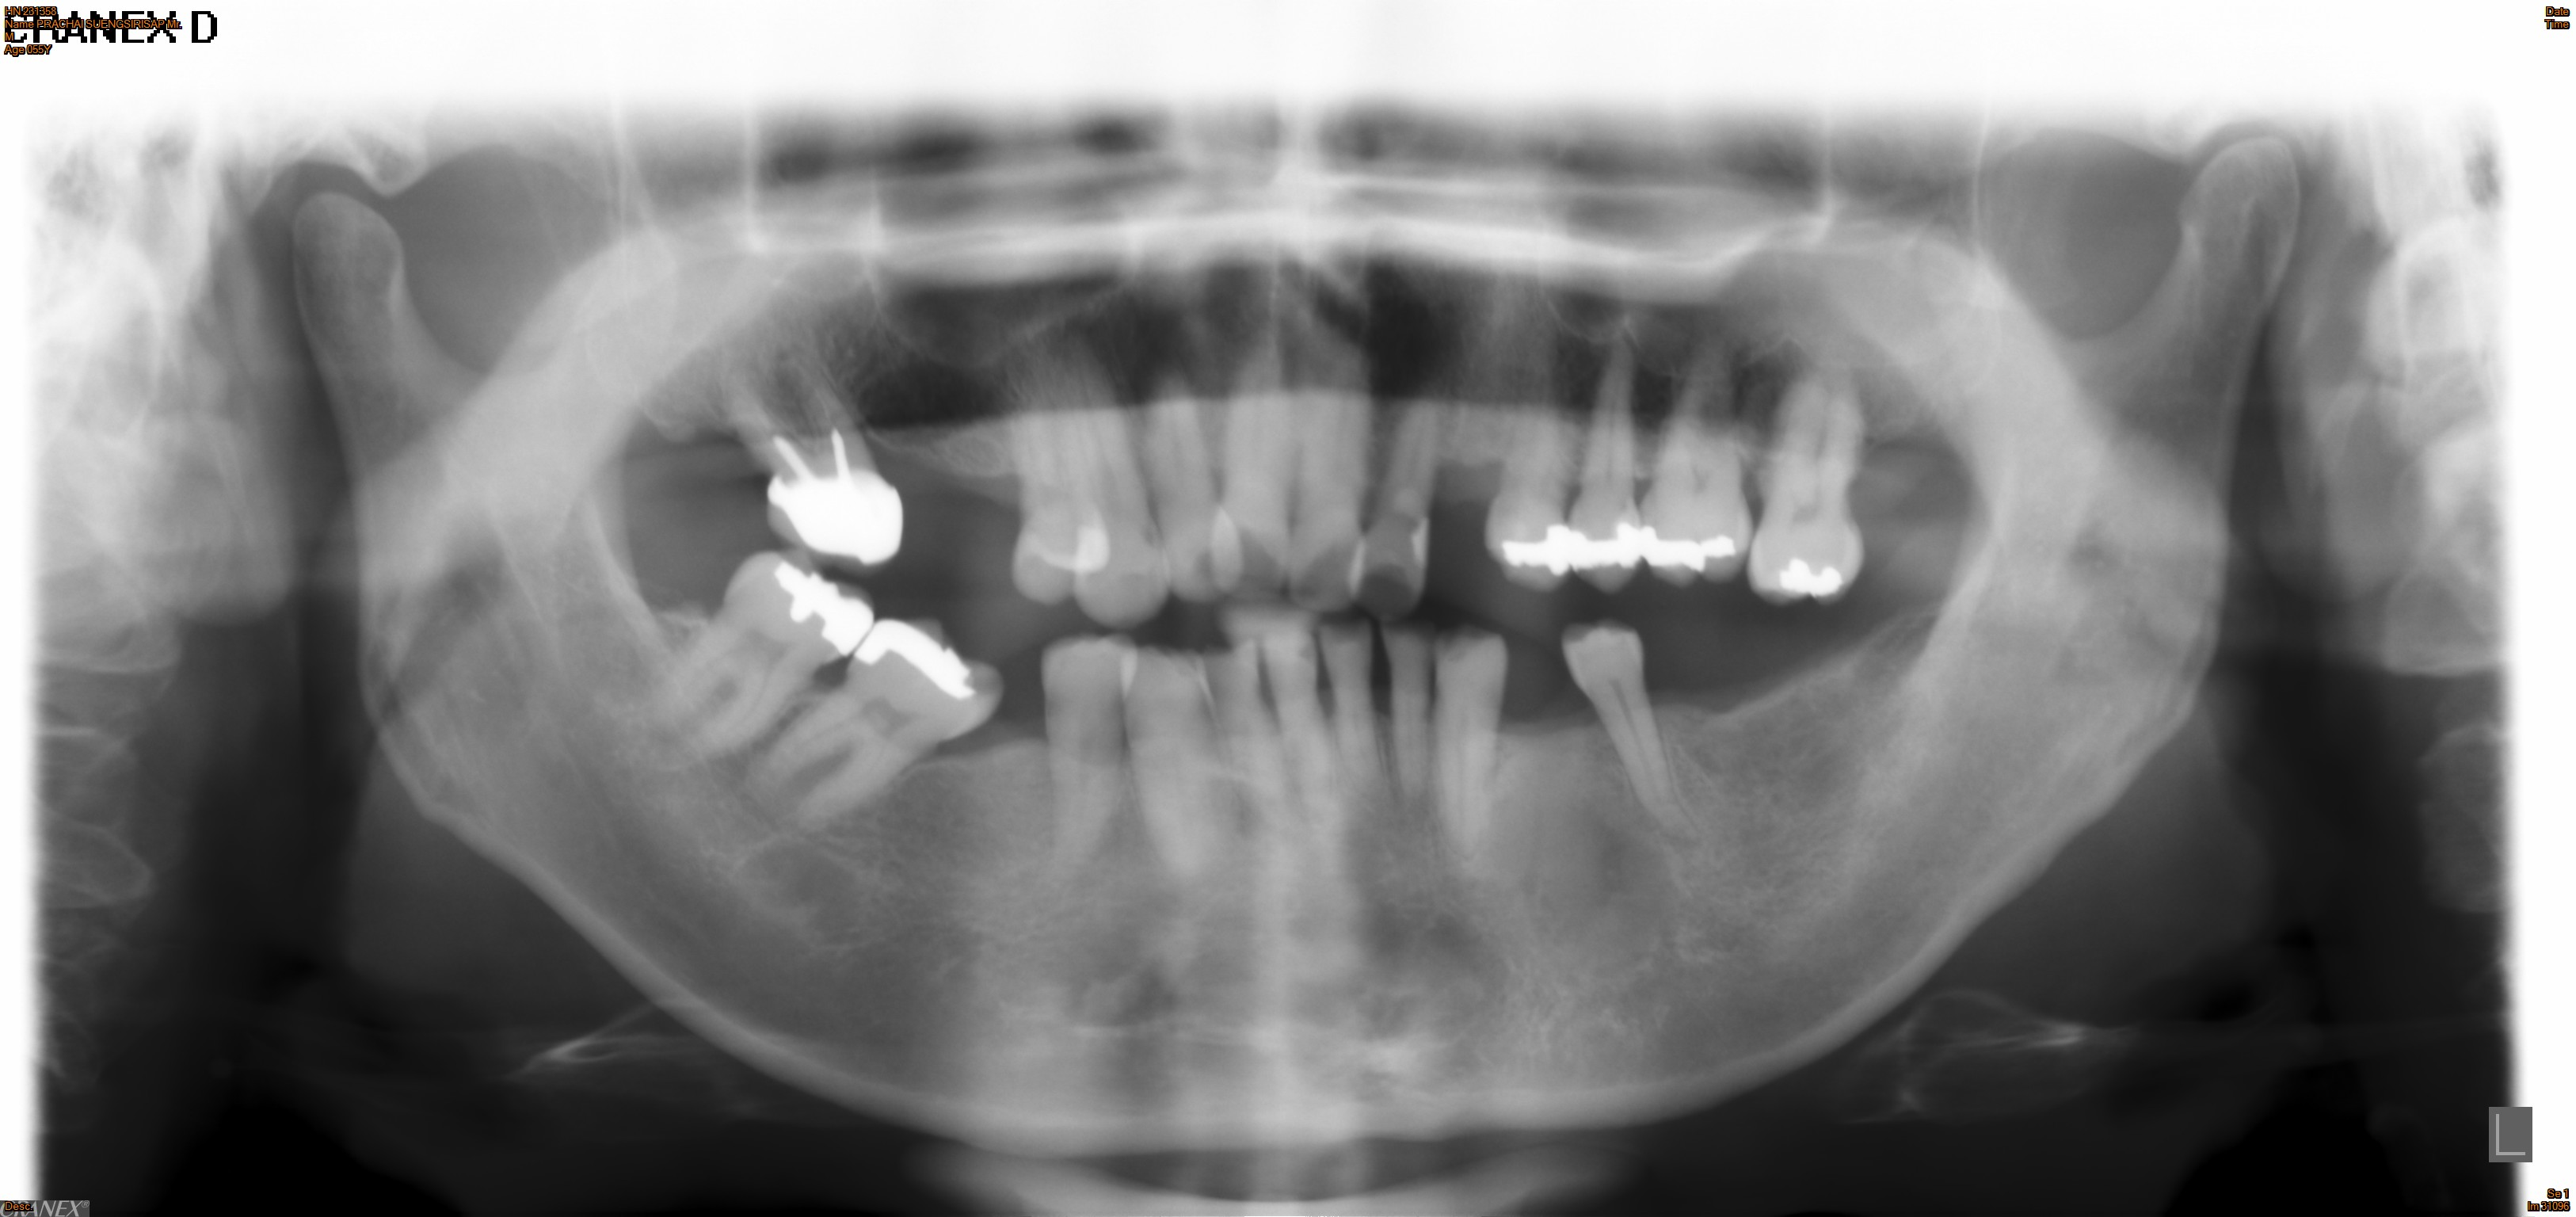periodontitis: (728, 611, 1022, 834), (628, 547, 884, 769)
